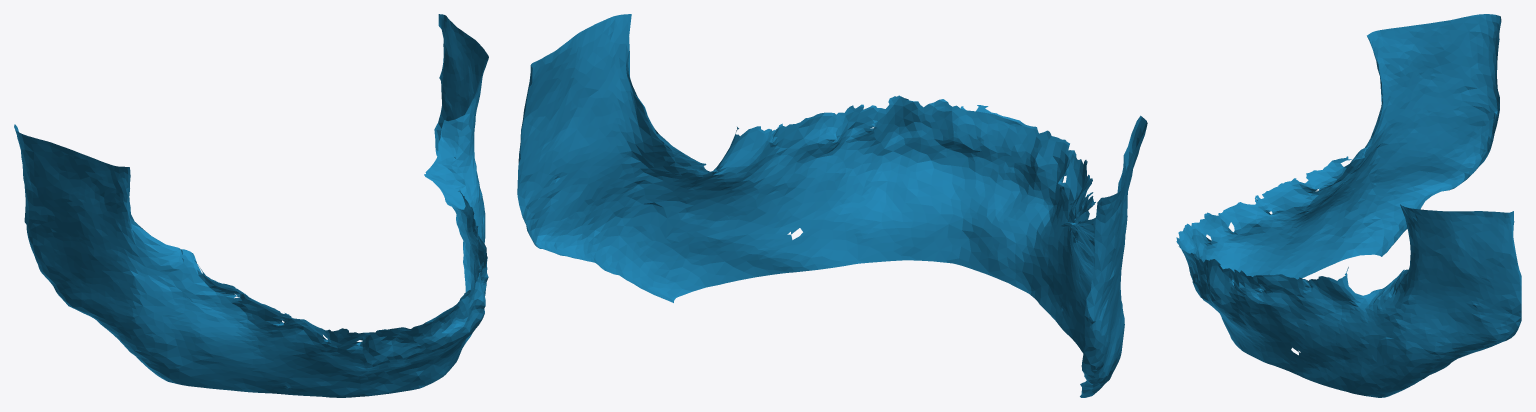
The model's file is lower.obj.
The picture shows the model from 3 angles, left to right: view 1: azimuth 30°, elevation 25°; view 2: azimuth 150°, elevation 25°; view 3: azimuth 270°, elevation 25°; orthographic projection. The views are drawn at different scales.
Bounding box in the file's own units: 1.33 × 0.63 × 0.9655.
